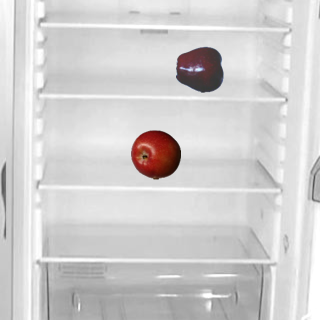Apple Braeburn: (130, 129, 180, 179)
Apple Red Delicious: (175, 44, 225, 94)
